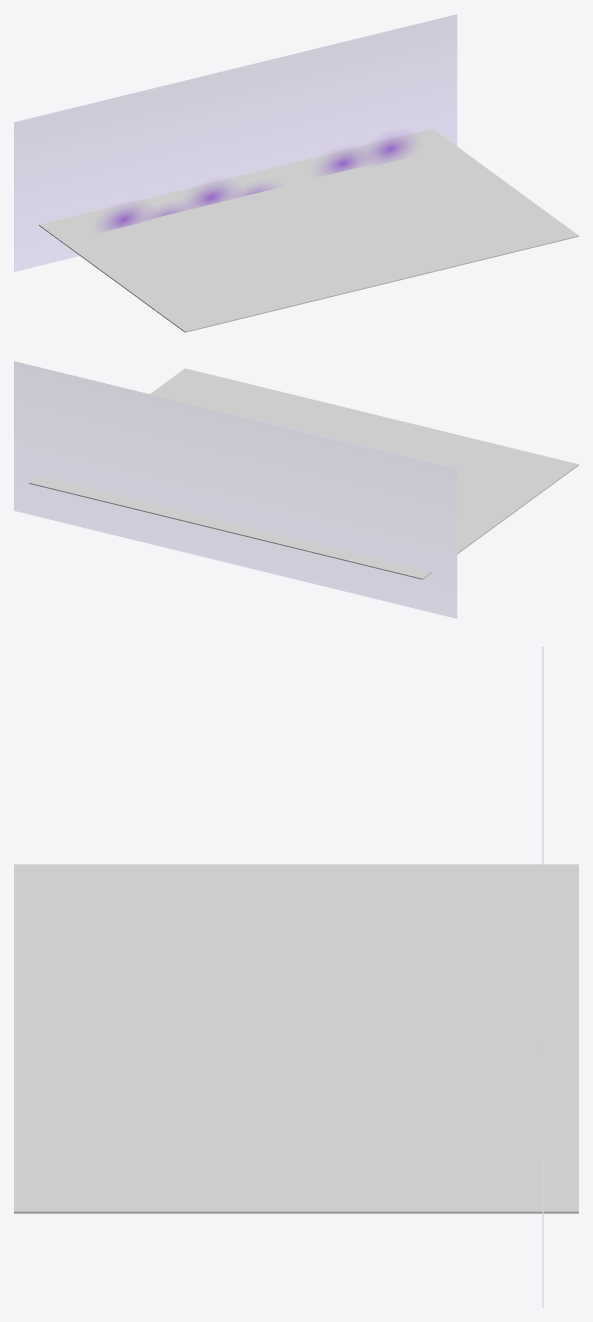
The model's file is nebula.glb.
The picture shows the model from 3 angles, top to bottom: view 1: azimuth 30°, elevation 25°; view 2: azimuth 150°, elevation 25°; view 3: azimuth 270°, elevation 25°; orthographic projection. The views are drawn at different scales.
Parts seen in each view (by area): view 1: Ground contact / transparent shadow receiver.018, Sky gradient / editable material.018, Motion / cloud 6.003, Motion / cloud 5.003, Motion / cloud 0.003, Motion / cloud 2.003; view 2: Sky gradient / editable material.018, Ground contact / transparent shadow receiver.018; view 3: Ground contact / transparent shadow receiver.018, Sky gradient / editable material.018.
Part boxes in pixels (x1,y1,x2,y2): Ground contact / transparent shadow receiver.018: (39,128,578,332); Sky gradient / editable material.018: (14,14,457,271); Motion / cloud 6.003: (367,134,413,163); Motion / cloud 5.003: (320,148,365,175); Motion / cloud 0.003: (100,205,147,231); Motion / cloud 2.003: (188,182,234,208); Sky gradient / editable material.018: (14,361,457,618); Ground contact / transparent shadow receiver.018: (29,368,578,579); Ground contact / transparent shadow receiver.018: (14,864,578,1213); Sky gradient / editable material.018: (542,647,543,1307).
Size of the model in its own units: 180 by 60 by 110.
Materials: 3 (1 with a texture image).
